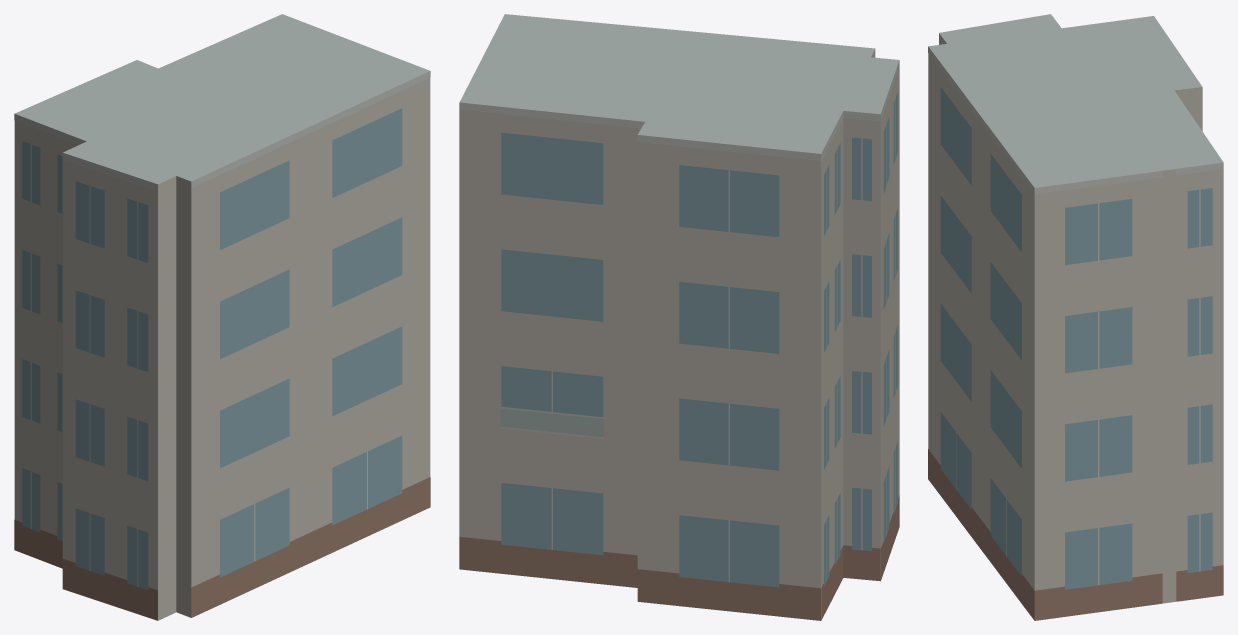
Rendered from survey-upis-32639782.glb.
3 renders of one model, left to right at view 1: azimuth 30°, elevation 25°; view 2: azimuth 150°, elevation 25°; view 3: azimuth 270°, elevation 25°, orthographic. The views are drawn at different scales.
Parts seen in each view (by area): view 1: survey-upis-32639782.tmp; view 2: survey-upis-32639782.tmp; view 3: survey-upis-32639782.tmp.
Boxes of the visible parts, bbox=[...] form: survey-upis-32639782.tmp: bbox=[14, 14, 430, 620]; survey-upis-32639782.tmp: bbox=[459, 14, 899, 620]; survey-upis-32639782.tmp: bbox=[928, 14, 1223, 620].
Bounding box in the file's own units: 13.89 × 16.1 × 9.97.
